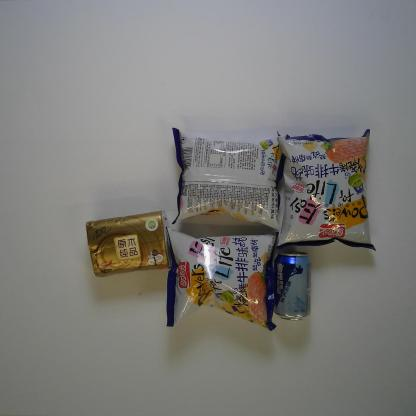Alcohol: (273, 252, 312, 322)
Puffed Food: (170, 127, 290, 231), (276, 128, 376, 252), (164, 226, 279, 332)
Tissue: (86, 210, 172, 278)
